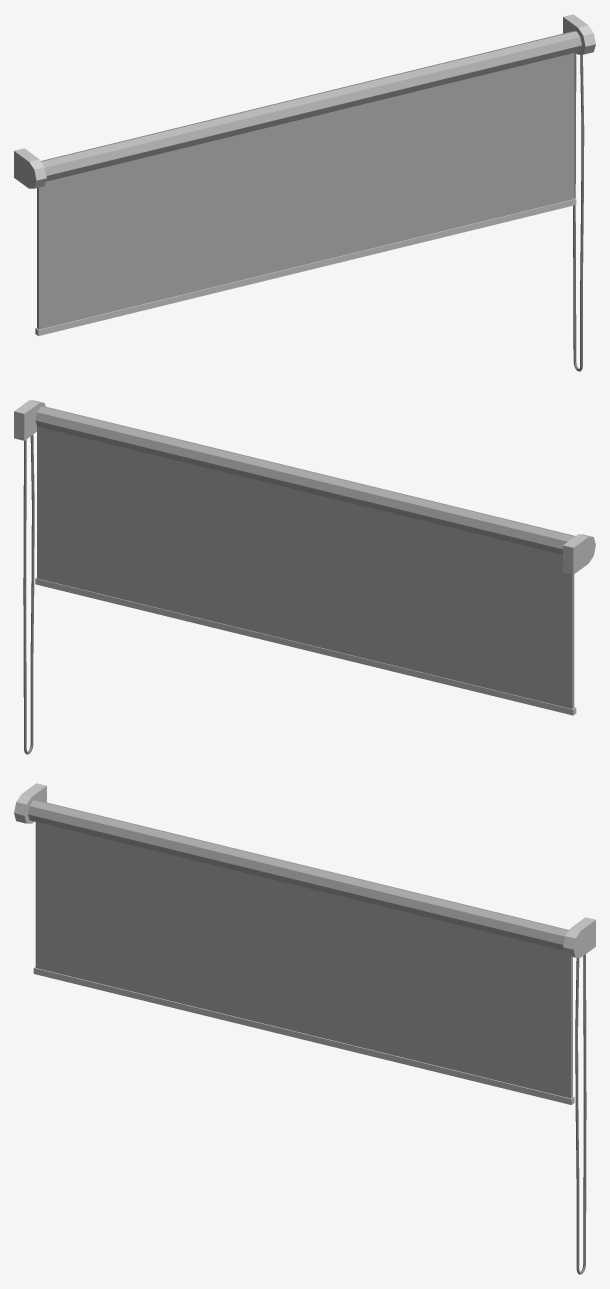
File: Curtains5_C3.fbx
3 renders of one model, top to bottom at view 1: azimuth 30°, elevation 25°; view 2: azimuth 150°, elevation 25°; view 3: azimuth 330°, elevation 25°, orthographic.
Visible parts, largest first — view 1: Curtains5_C3; view 2: Curtains5_C3; view 3: Curtains5_C3.
Part boxes in pixels (x1,y1,x2,y2): Curtains5_C3: [14, 14, 595, 371]; Curtains5_C3: [14, 400, 595, 754]; Curtains5_C3: [14, 783, 595, 1274].
Size of the model in its own units: 137 by 81.55 by 9.55.
